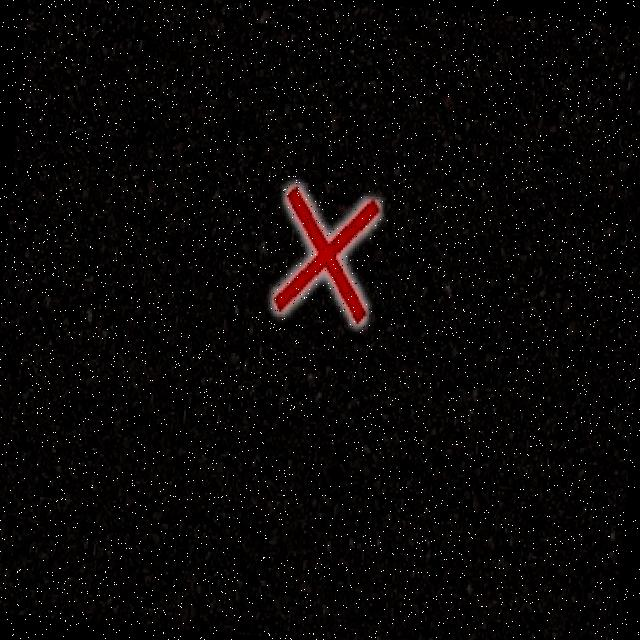x_marker: (272, 185, 378, 322)
